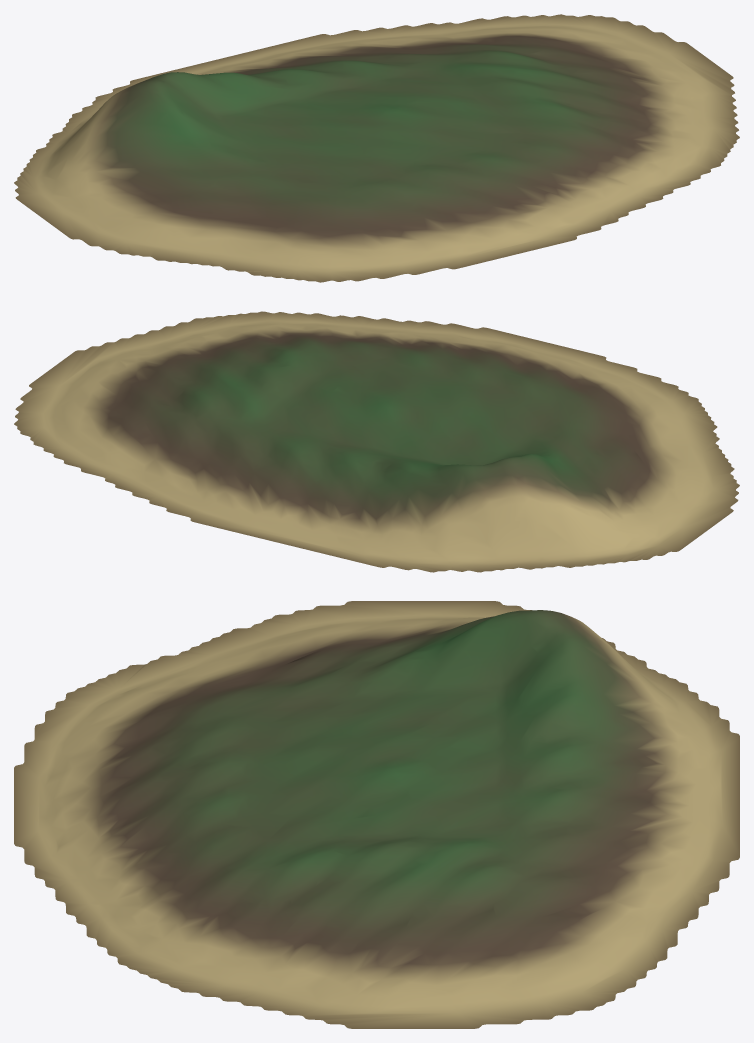
File: island_base_lod2.glb
3 views of the same model, one above another, from view 1: azimuth 30°, elevation 25°; view 2: azimuth 150°, elevation 25°; view 3: azimuth 270°, elevation 25° (orthographic). The views are drawn at different scales.
Parts seen in each view (by area): view 1: GEO_island_lod2; view 2: GEO_island_lod2; view 3: GEO_island_lod2.
Boxes of the visible parts, x1=… form: GEO_island_lod2: x1=14, y1=14, x2=739, y2=282; GEO_island_lod2: x1=14, y1=311, x2=739, y2=572; GEO_island_lod2: x1=14, y1=601, x2=739, y2=1028.
Size of the model in its own units: 35.25 by 3.36 by 25.28.
